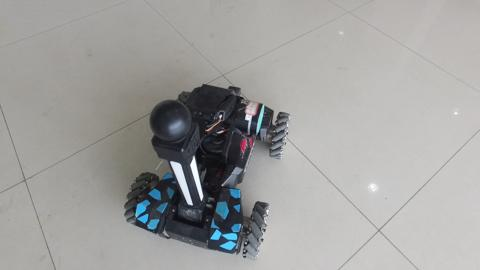chariot: (114, 68, 269, 252)
